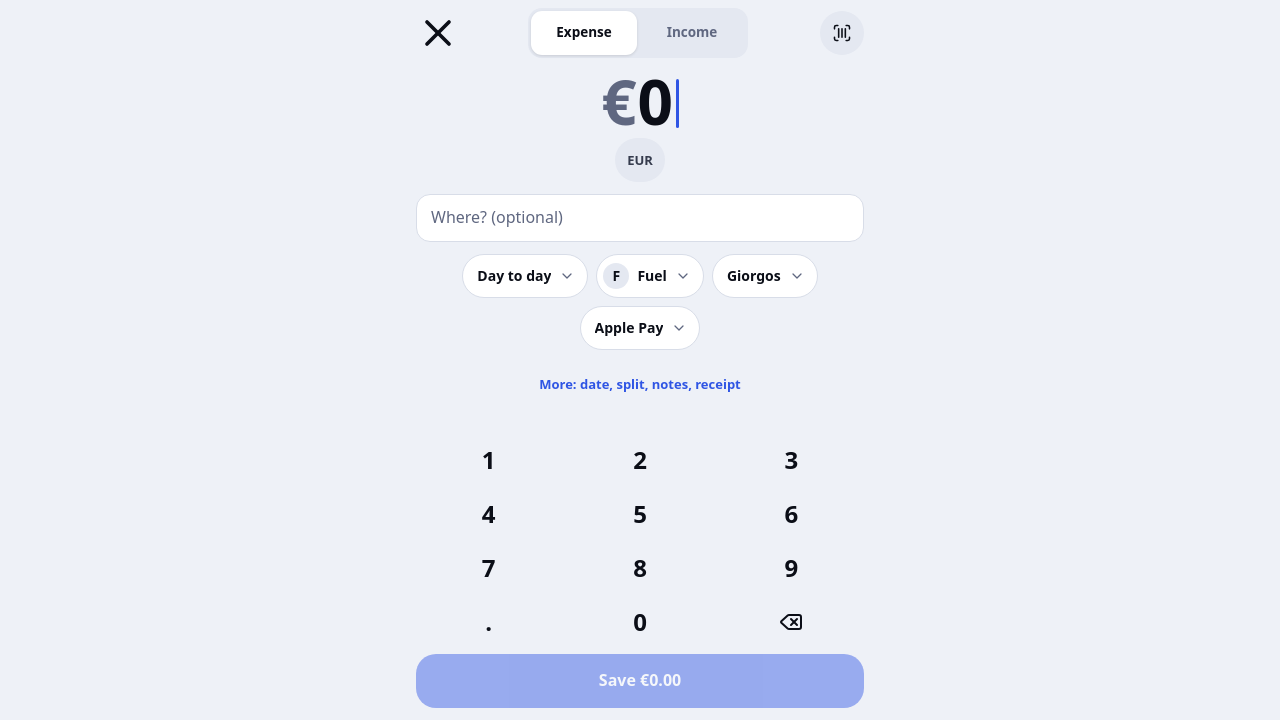
fuel: price per litre prefilled from the last one, litres shown, price sent
expect the button with aria-label "Category: Fuel. Change" is shown: met, box [596,254,704,298]
Click the button "5".
click(640, 514)  # box [567,490,713,538]
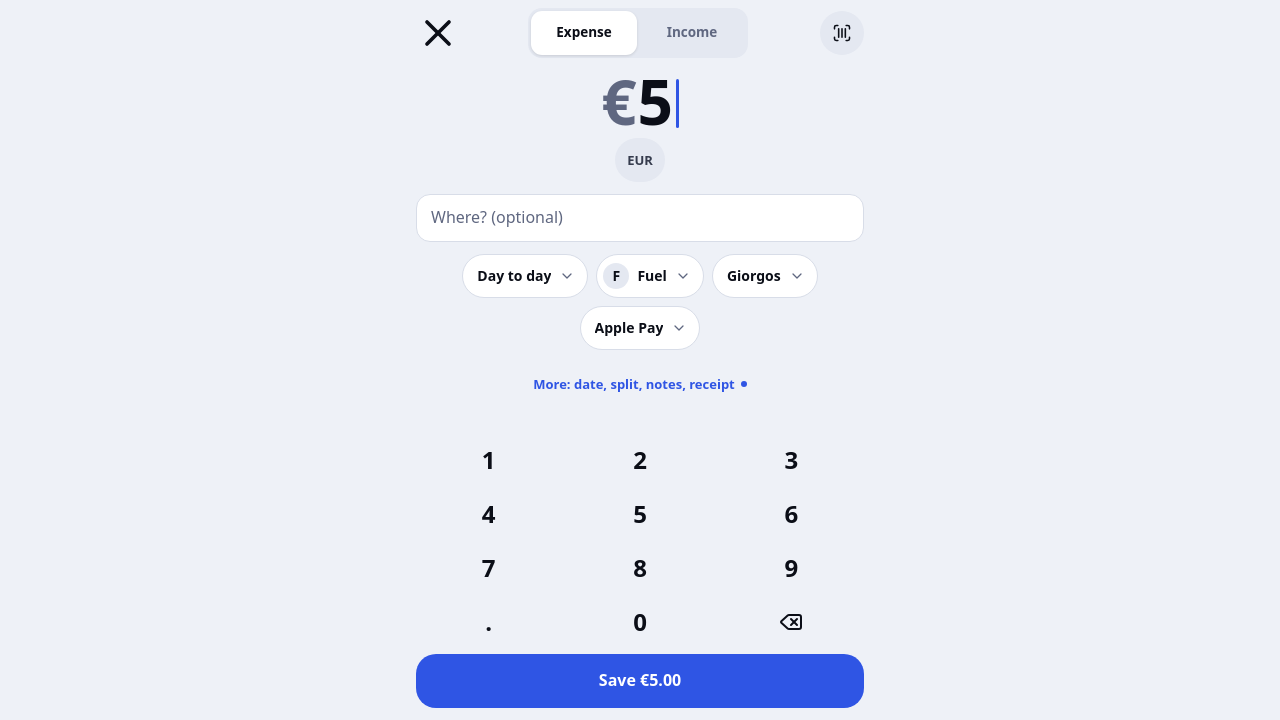
Click the button "0".
click(640, 622)  # box [567,598,713,646]
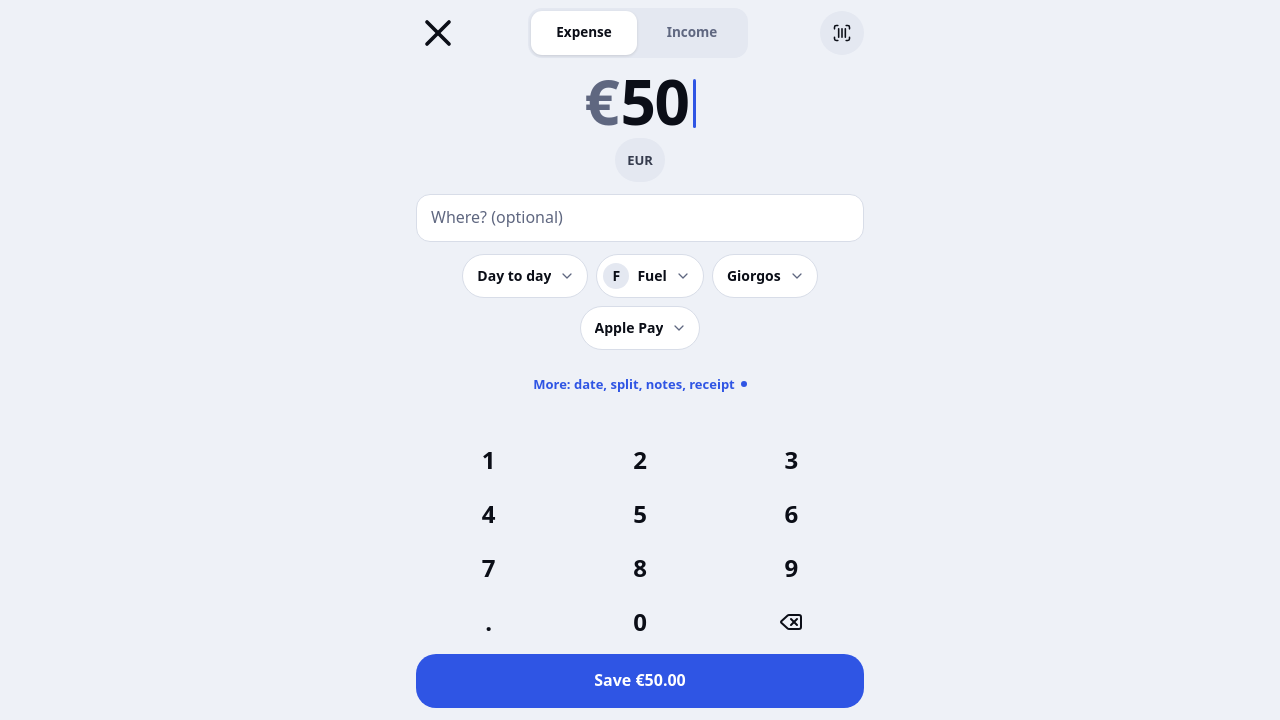
Click the button with aria-label "More options".
click(640, 384)  # box [521,362,759,406]
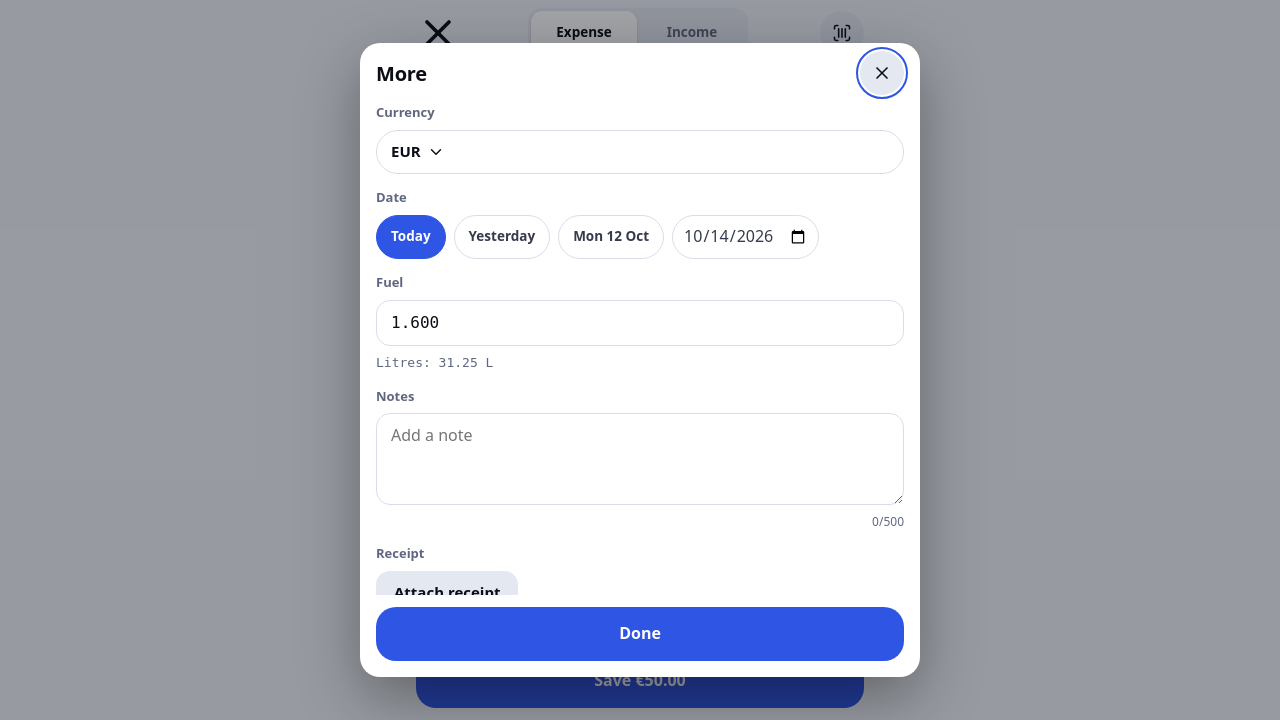
expect the field named "Price per litre" holds "1.600": met, box [376,300,904,346]
expect the text "Litres: 31.25 L" is shown: met, box [376,355,493,370]
Click the button "Done".
click(640, 634)  # box [376,607,904,661]
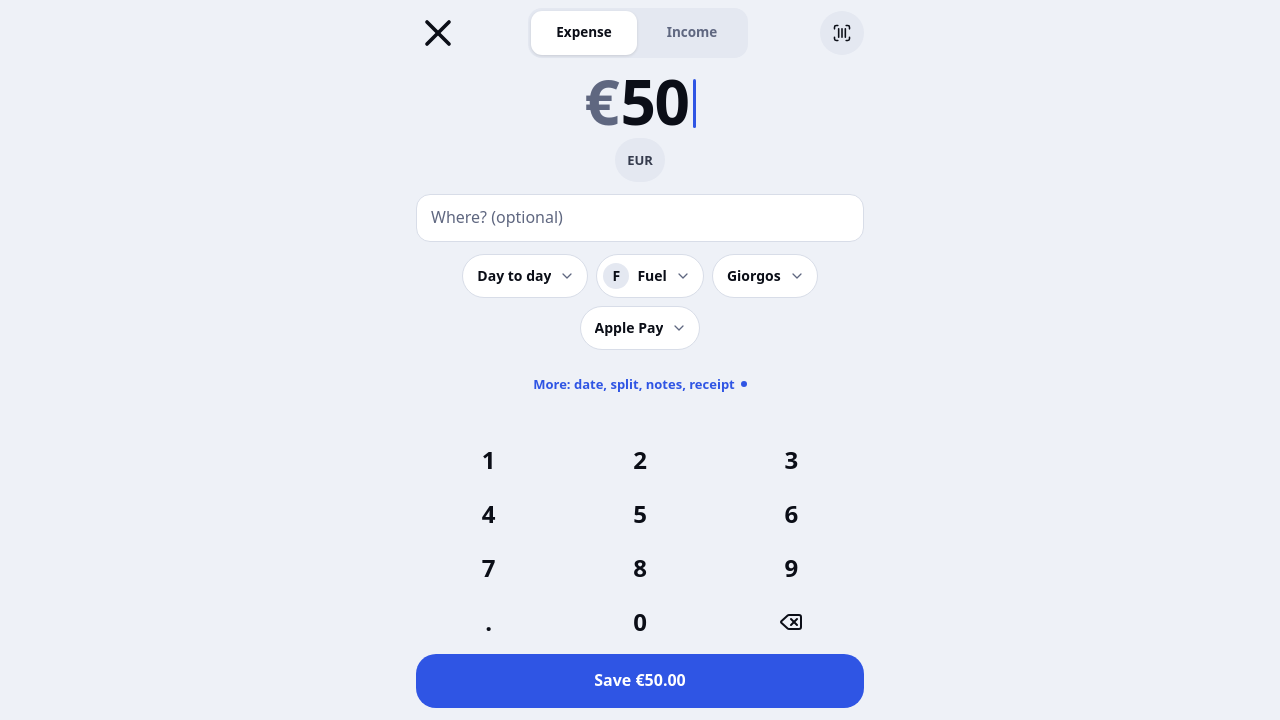
Click the button with aria-label "Save 50 euro".
click(640, 681)  # box [416,654,864,708]
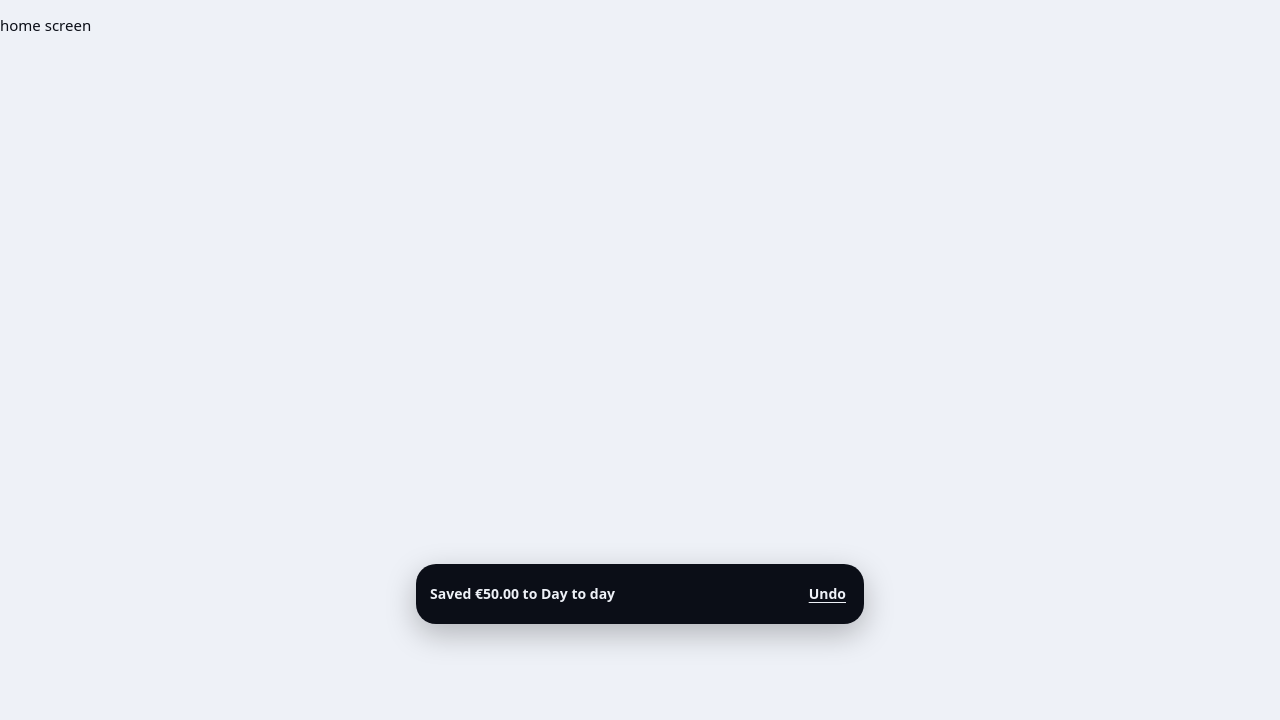
expect the text "home screen" is shown: met, box [0,15,91,35]
